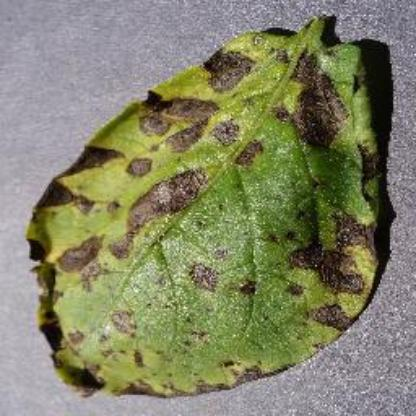Early-Blight: (23, 4, 395, 402)
